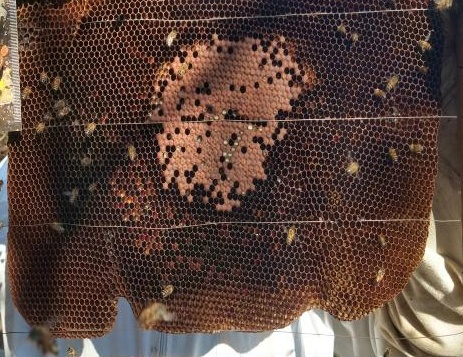cria: (144, 33, 329, 212)
